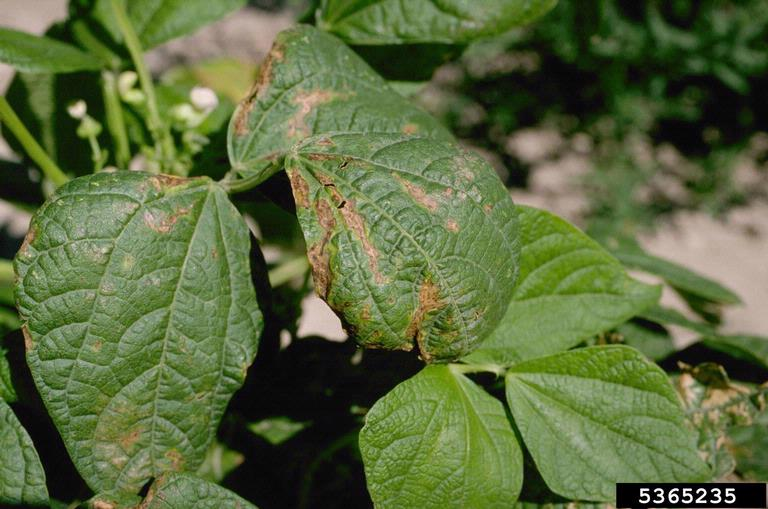StringBeans_BacterialBlight: (16, 164, 279, 483), (279, 140, 552, 353)
